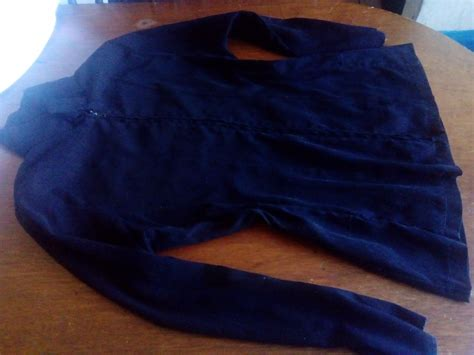gamuza: (2, 11, 470, 355)
